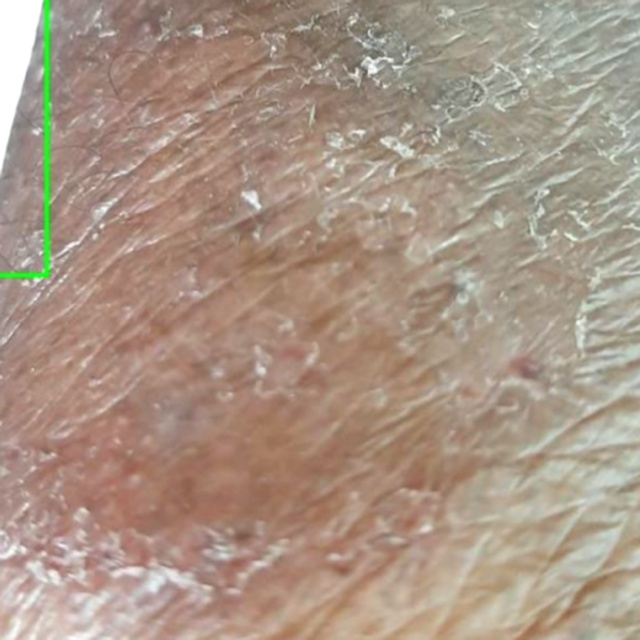Tinea Corporis: (0, 0, 46, 275)
